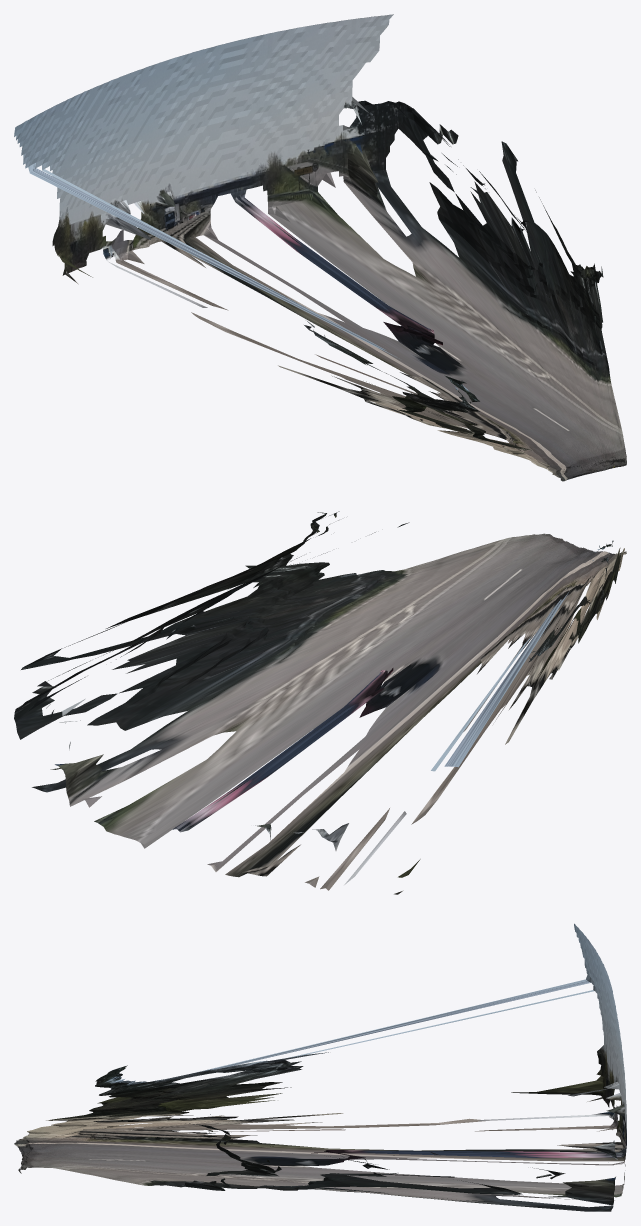
3 views of the same model, one above another, from view 1: azimuth 30°, elevation 25°; view 2: azimuth 150°, elevation 25°; view 3: azimuth 270°, elevation 25° (orthographic). The views are drawn at different scales.
Parts seen in each view (by area): view 1: defaultobject; view 2: defaultobject; view 3: defaultobject.
Boxes of the visible parts, bbox=[...] form: defaultobject: bbox=[14, 14, 626, 481]; defaultobject: bbox=[14, 511, 626, 894]; defaultobject: bbox=[14, 923, 626, 1211].
Bounding box in the file's own units: 32.12 × 12.86 × 44.7.
1 material, 1 textured.
